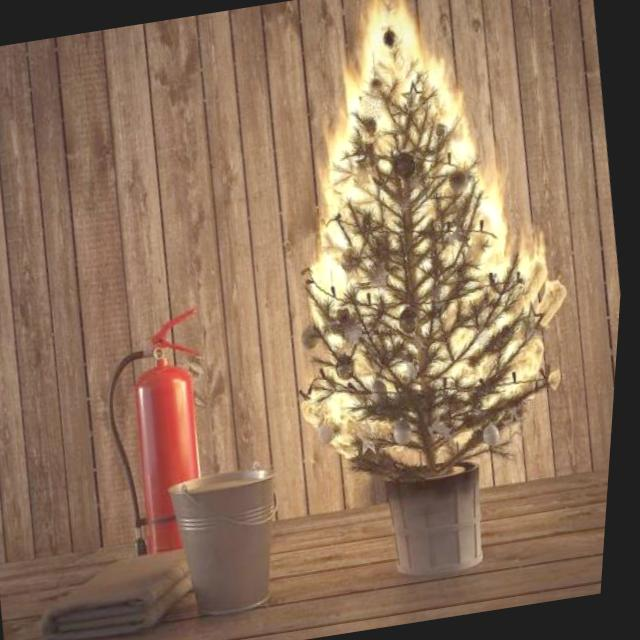FireExtinguisher: (91, 300, 243, 563)
